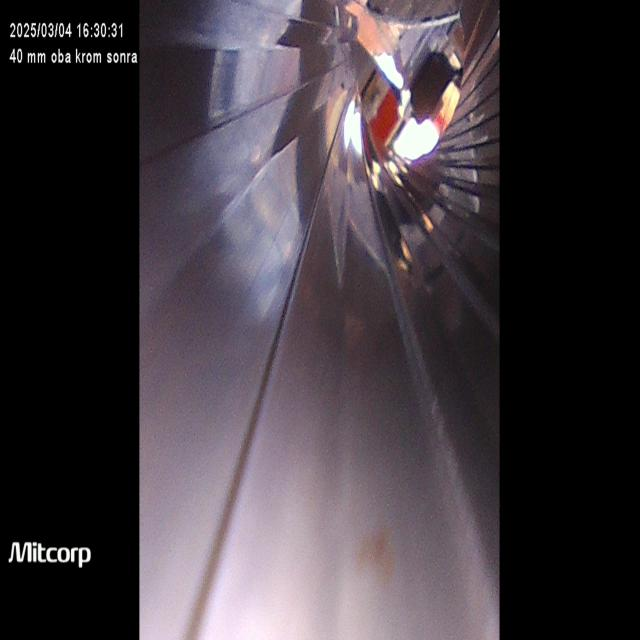hata_4.2: (353, 502, 411, 602)
